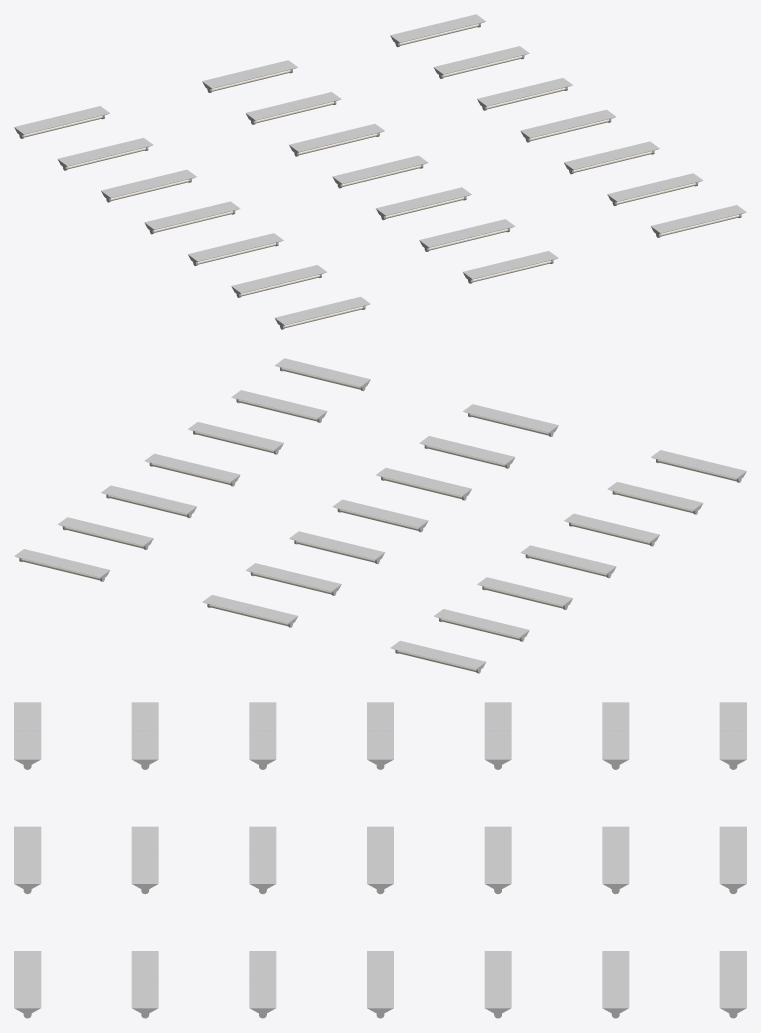
File: light1.fbx
The picture shows the model from 3 angles, top to bottom: view 1: azimuth 30°, elevation 25°; view 2: azimuth 150°, elevation 25°; view 3: azimuth 270°, elevation 25°; orthographic projection. The views are drawn at different scales.
Parts seen in each view (by area): view 1: light6; view 2: light6; view 3: light6.
Part boxes in pixels (x1,y1,x2,y2): light6: (14, 14, 746, 329); light6: (14, 358, 746, 673); light6: (14, 702, 746, 1018).
Bounding box in the file's own units: 18.45 × 0.3255 × 18.69.
